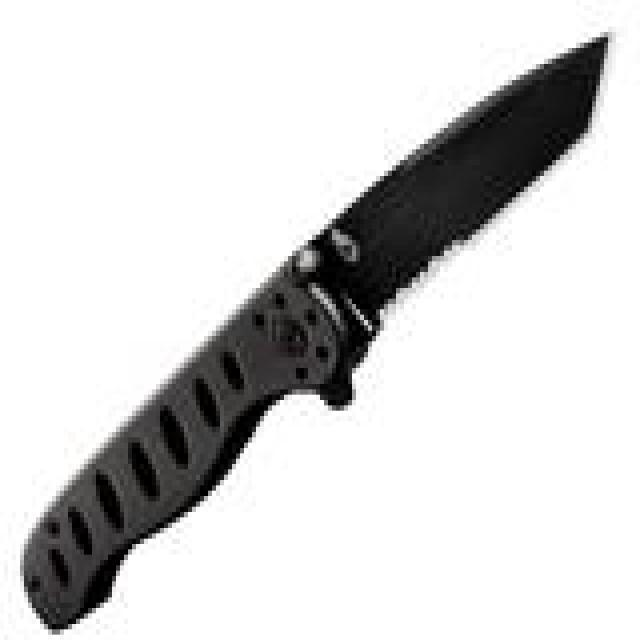Knife: (8, 14, 610, 640)
